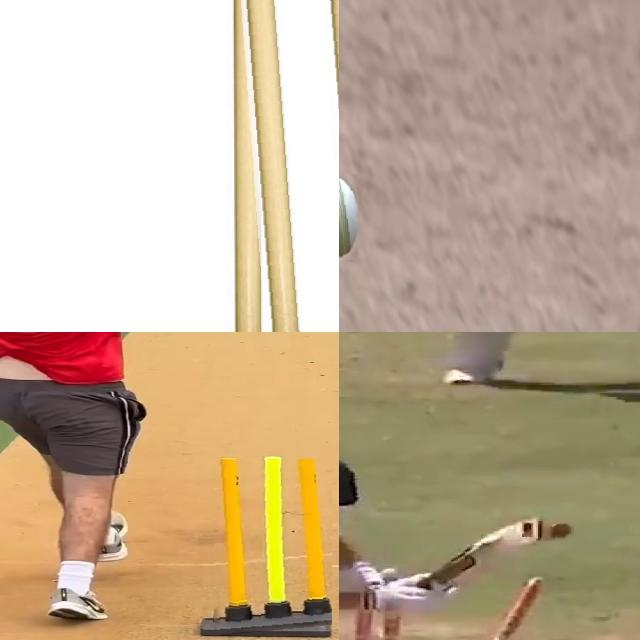Cricket ball: (339, 174, 358, 263), (548, 521, 574, 541)
Stumps: (227, 0, 339, 332), (202, 459, 332, 636), (350, 576, 454, 640)
